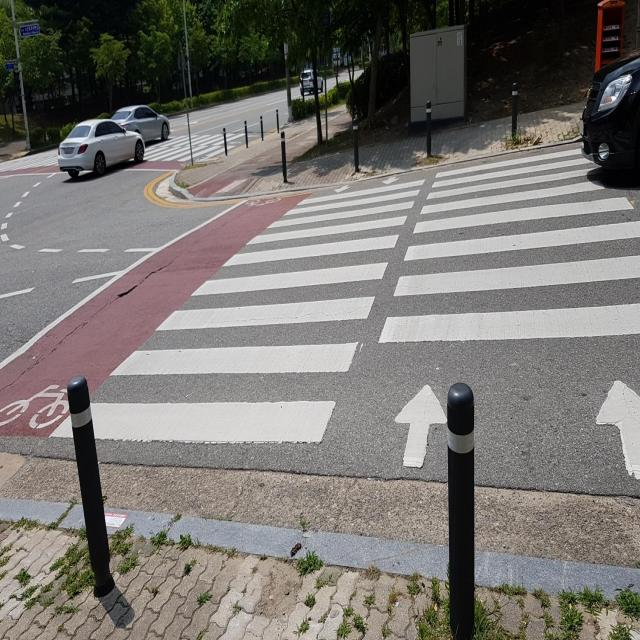횡단보도: (45, 143, 640, 486), (0, 128, 243, 171)
